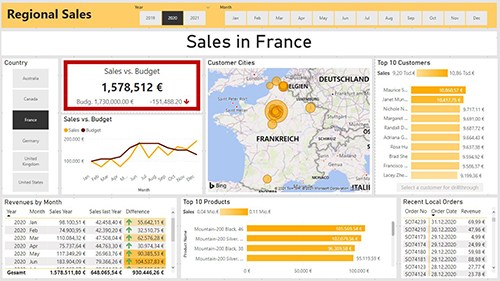

The page's visual inventory and layout, read from the dashboard file:
{"tool":"powerbi","page":{"name":"Regional Customer Analysis","canvas":[1280,720],"ordinal":1},"visuals":[{"type":"slicer","title":"Country","fields":{"Values":["DIM_Customers.Customer Country"]},"box":[9.9,149.4,142.5,346.8],"z":0},{"type":"lineChart","title":"Sales vs. Budget","fields":{"Y":["Analysis Metrics.Sales","Analysis Metrics.Budget"],"Category":["Date.Month"]},"box":[161,293.6,359.3,201.9],"z":1000},{"type":"map","title":"Customer Cities","fields":{"Size":["Analysis Metrics.Sales"],"Category":["DIM_Customers.Customer Country","DIM_Customers.Customer City"]},"box":[529.1,149.1,423.6,346.4],"z":2000},{"type":"barChart","title":"Top 10 Customers","fields":{"Category":["DIM_Customers.Full Name"],"Y":["Analysis Metrics.Sales"]},"box":[961.6,149.1,311.8,346.4],"z":3000},{"type":"textbox","box":[6.9,6.9,327.6,64.3],"z":4000},{"type":"slicer","fields":{"Values":["Date.Year"]},"box":[334.5,6.9,217.7,64.3],"z":5000},{"type":"slicer","fields":{"Values":["Date.Month"]},"box":[552.2,6.9,719.5,64.3],"z":6000},{"type":"pivotTable","title":"Recent Local Orders","fields":{"Values":["FACT_InternetSales.OrderDateKey","Analysis Metrics.Sales"],"Rows":["FACT_InternetSales.SalesOrderNumber"]},"box":[1027.3,503.8,246.4,204.9],"z":7000},{"type":"tableEx","title":"Revenues by Month","fields":{"Values":["Date.Year Hierarchie.Year","Date.Year Hierarchie.Month","Analysis Metrics.Sales","Analysis Metrics.LastYearSales","Analysis Metrics.RevenueDifference"]},"box":[9.9,504.7,445.4,203.9],"z":8000},{"type":"BBED0A4D4D8D44CE93CF2DAFADEE466C","fields":{"actual":["Table_Measures.Sales"],"target1":["Table_Measures.Budget"],"target2":["Table_Measures.Sales - Budget"]},"box":[161,148.1,359.3,138.6],"z":9000},{"type":"barChart","title":"Top 10 Products","fields":{"Category":["DIM_Products.Product Name"],"Y":["Analysis Metrics.Sales"]},"box":[466.1,503.8,550.3,204.9],"z":10000},{"type":"card","fields":{"Values":["Table_Measures.CountryReportTitle"]},"box":[6.9,80.2,1264.8,61.4],"z":11000},{"type":"actionButton","box":[1016,465.8,220.4,23.1],"z":11001}]}

Visuals, with their boxes in screenshot pixels (x1, y1, x2, y2), scaled from the page's 1280x720 canvas onto the 500x281 screenshot:
"Country" slicer: [x1=4, y1=58, x2=60, y2=194]
"Sales vs. Budget" lineChart: [x1=63, y1=115, x2=203, y2=193]
"Customer Cities" map: [x1=207, y1=58, x2=372, y2=193]
"Top 10 Customers" barChart: [x1=376, y1=58, x2=497, y2=193]
textbox: [x1=3, y1=3, x2=131, y2=28]
slicer - Date.Year: [x1=131, y1=3, x2=216, y2=28]
slicer - Date.Month: [x1=216, y1=3, x2=497, y2=28]
"Recent Local Orders" pivotTable: [x1=401, y1=197, x2=498, y2=277]
"Revenues by Month" tableEx: [x1=4, y1=197, x2=178, y2=277]
BBED0A4D4D8D44CE93CF2DAFADEE466C - Table_Measures.Sales x Table_Measures.Budget: [x1=63, y1=58, x2=203, y2=112]
"Top 10 Products" barChart: [x1=182, y1=197, x2=397, y2=277]
card - Table_Measures.CountryReportTitle: [x1=3, y1=31, x2=497, y2=55]
actionButton: [x1=397, y1=182, x2=483, y2=191]
